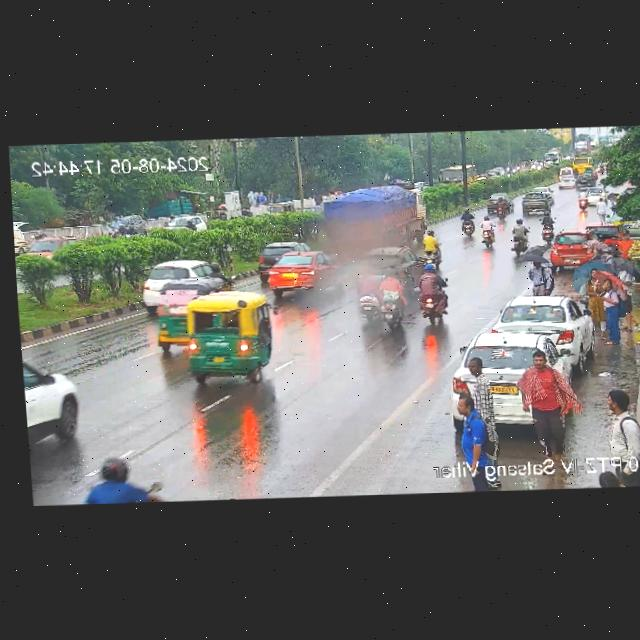car: (177, 287, 281, 389), (491, 295, 591, 357), (21, 351, 83, 446), (457, 331, 558, 381), (252, 238, 332, 301), (138, 258, 231, 312), (153, 276, 198, 347), (357, 240, 413, 281), (545, 232, 597, 267), (105, 213, 145, 239), (519, 185, 555, 212), (578, 220, 616, 242), (268, 201, 302, 217), (586, 185, 604, 205), (483, 193, 498, 211)
motorcycle: (75, 456, 162, 504), (373, 270, 413, 333), (408, 264, 446, 323), (356, 274, 385, 317), (448, 204, 480, 238), (529, 214, 562, 241), (507, 215, 527, 256), (421, 230, 443, 265), (479, 214, 496, 249), (109, 217, 137, 237), (575, 188, 588, 212), (496, 199, 508, 221)
person: (520, 346, 565, 450), (459, 356, 495, 420), (601, 390, 640, 442), (452, 394, 485, 455), (601, 277, 621, 344), (584, 265, 604, 325), (617, 263, 636, 323), (526, 262, 551, 296), (604, 246, 624, 265), (622, 229, 632, 257), (594, 197, 606, 220)
truck: (316, 181, 424, 245)
